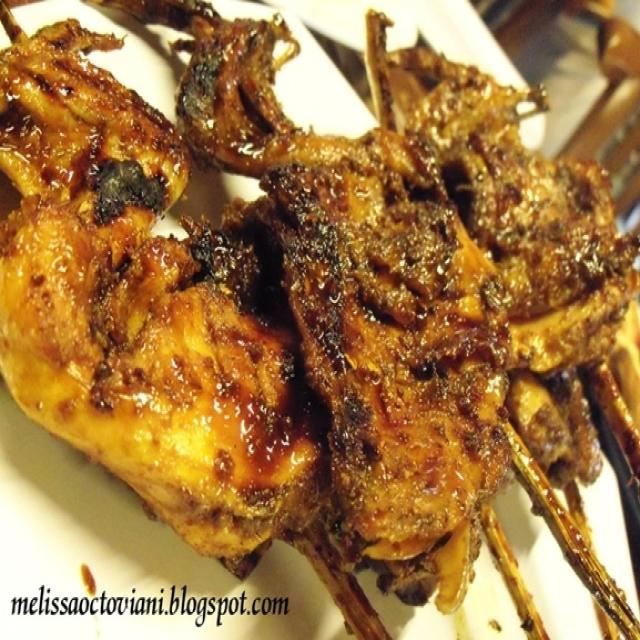鸡肉料理 含炸鸡: (16, 31, 611, 597)
